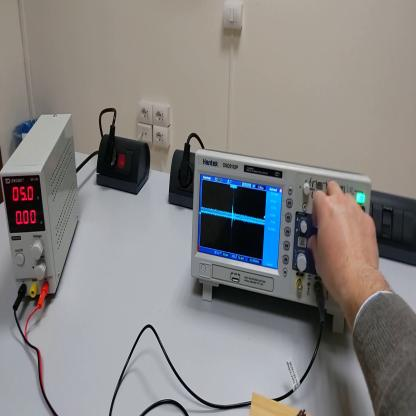hand: (311, 180, 382, 310)
oscilloscope: (190, 150, 372, 335)
power supply: (2, 117, 79, 298)
socket: (98, 131, 152, 197), (170, 144, 194, 213)
